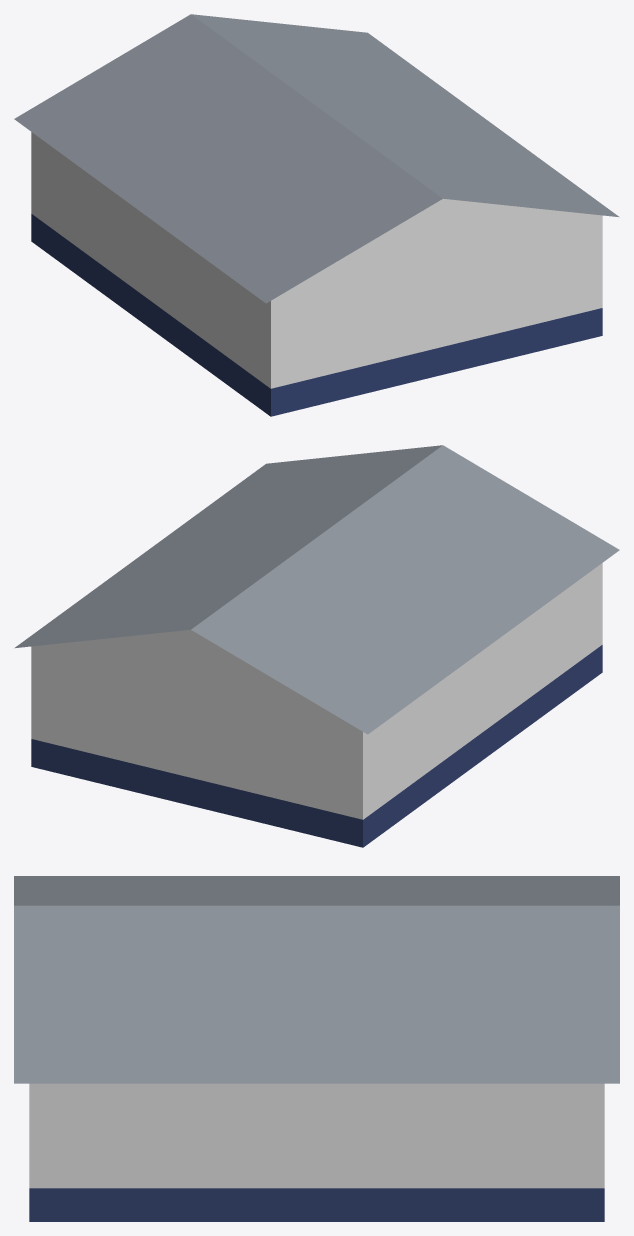
File: far.fbx
The picture shows the model from 3 angles, top to bottom: view 1: azimuth 30°, elevation 25°; view 2: azimuth 150°, elevation 25°; view 3: azimuth 270°, elevation 25°; orthographic projection. The views are drawn at different scales.
Parts seen in each view (by area): view 1: a2004/700/far; view 2: a2004/700/far; view 3: a2004/700/far.
Boxes of the visible parts, left/top/right/bottom form: a2004/700/far: left=14, top=14, right=619, bottom=416; a2004/700/far: left=14, top=445, right=619, bottom=847; a2004/700/far: left=14, top=876, right=619, bottom=1221.
Bounding box in the file's own units: 12.8 × 6.3 × 15.8.
